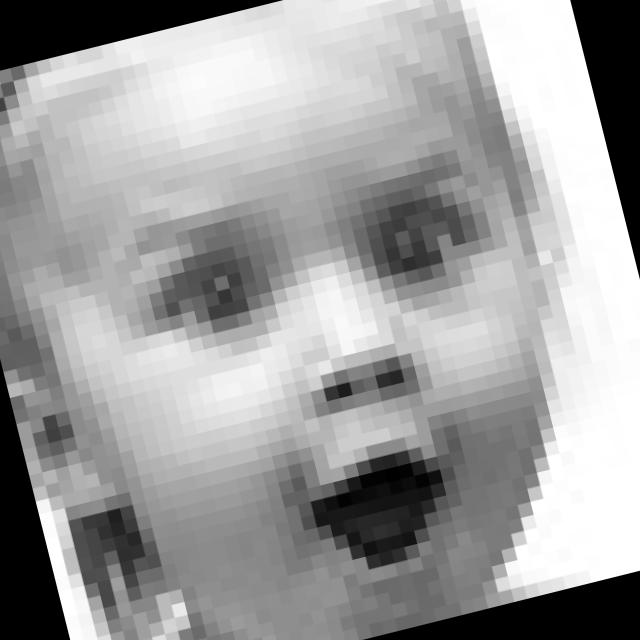surprise: (87, 129, 580, 630)
